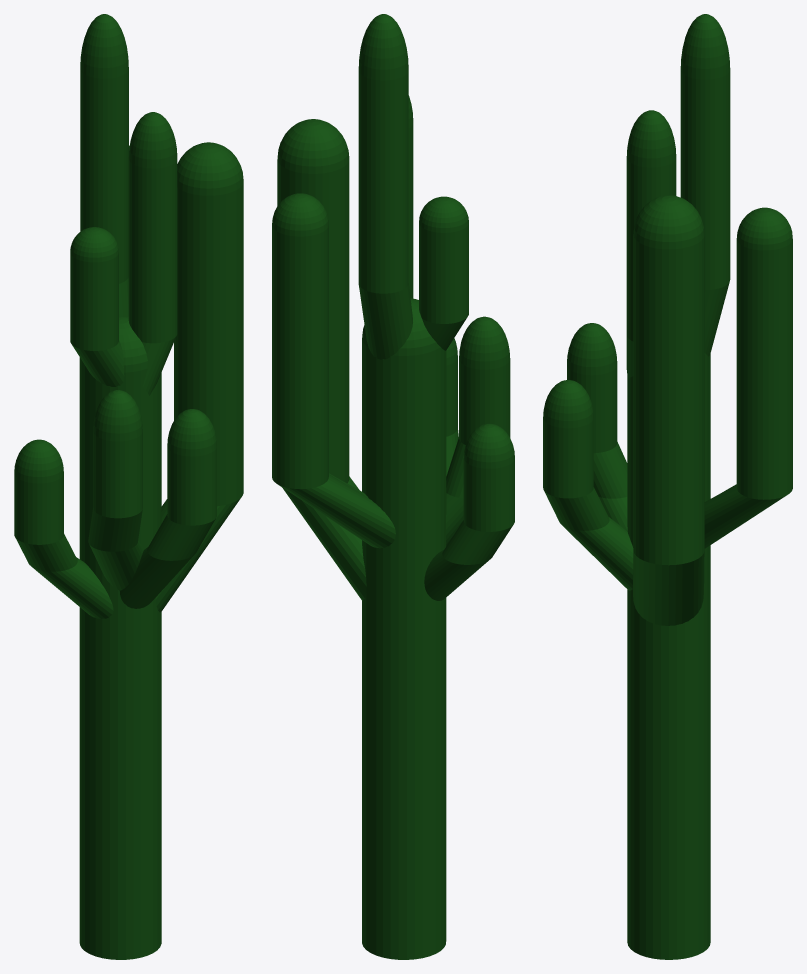
Rendered from saguaro01_fbx.fbx.
3 renders of one model, left to right at view 1: azimuth 30°, elevation 25°; view 2: azimuth 150°, elevation 25°; view 3: azimuth 270°, elevation 25°, orthographic. The views are drawn at different scales.
Parts seen in each view (by area): view 1: Cylinder.005; view 2: Cylinder.005; view 3: Cylinder.005.
Boxes of the visible parts, <box> form: Cylinder.005: <box>14,14,243,959</box>; Cylinder.005: <box>272,14,514,959</box>; Cylinder.005: <box>543,14,792,959</box>.
Size of the model in its own units: 156 by 615 by 150.
